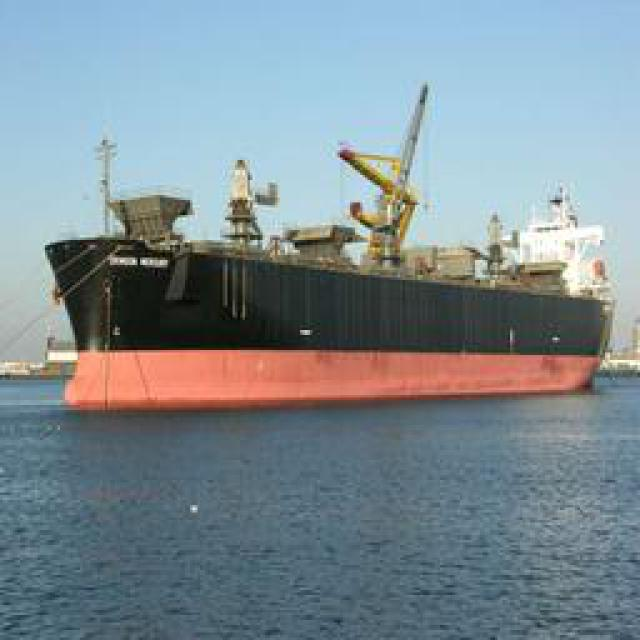Ship: (36, 89, 616, 414)
